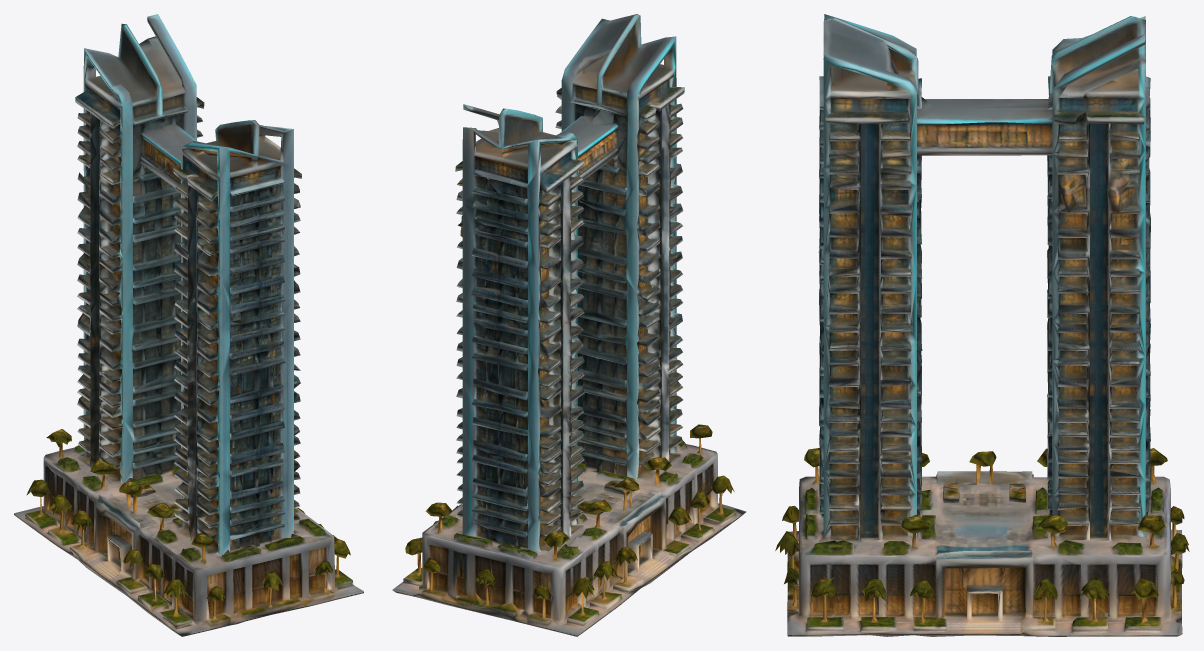
The model's file is twin_towers_bridge.glb.
3 renders of one model, left to right at view 1: azimuth 30°, elevation 25°; view 2: azimuth 150°, elevation 25°; view 3: azimuth 270°, elevation 25°, orthographic. The views are drawn at different scales.
Visible parts, largest first — view 1: tripo_node_3d2660ca-6380-4f17-bb9d-cae0b34d555f; view 2: tripo_node_3d2660ca-6380-4f17-bb9d-cae0b34d555f; view 3: tripo_node_3d2660ca-6380-4f17-bb9d-cae0b34d555f.
Boxes of the visible parts, <box> form: tripo_node_3d2660ca-6380-4f17-bb9d-cae0b34d555f: <box>14,14,363,636</box>; tripo_node_3d2660ca-6380-4f17-bb9d-cae0b34d555f: <box>392,14,746,636</box>; tripo_node_3d2660ca-6380-4f17-bb9d-cae0b34d555f: <box>775,14,1189,636</box>.
Bounding box in the file's own units: 0.401 × 1 × 0.6607.
Materials: 1 (1 with a texture image).
